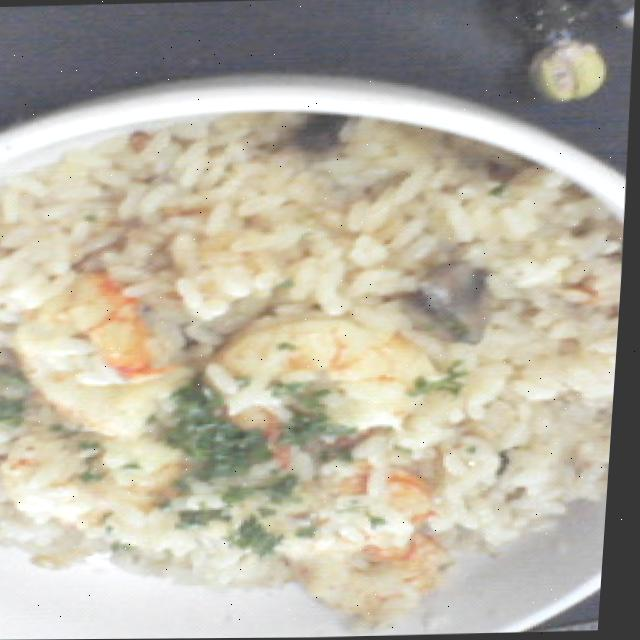米饭主食: (0, 63, 636, 640)
